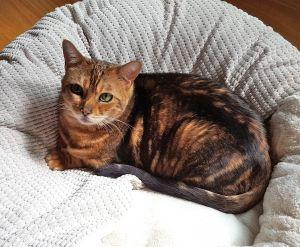bengal: (54, 35, 146, 131)
